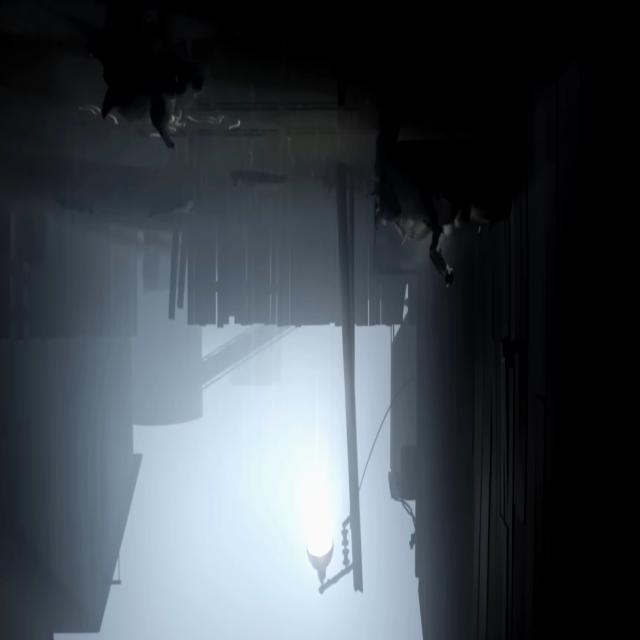boy: (427, 225, 453, 288)
